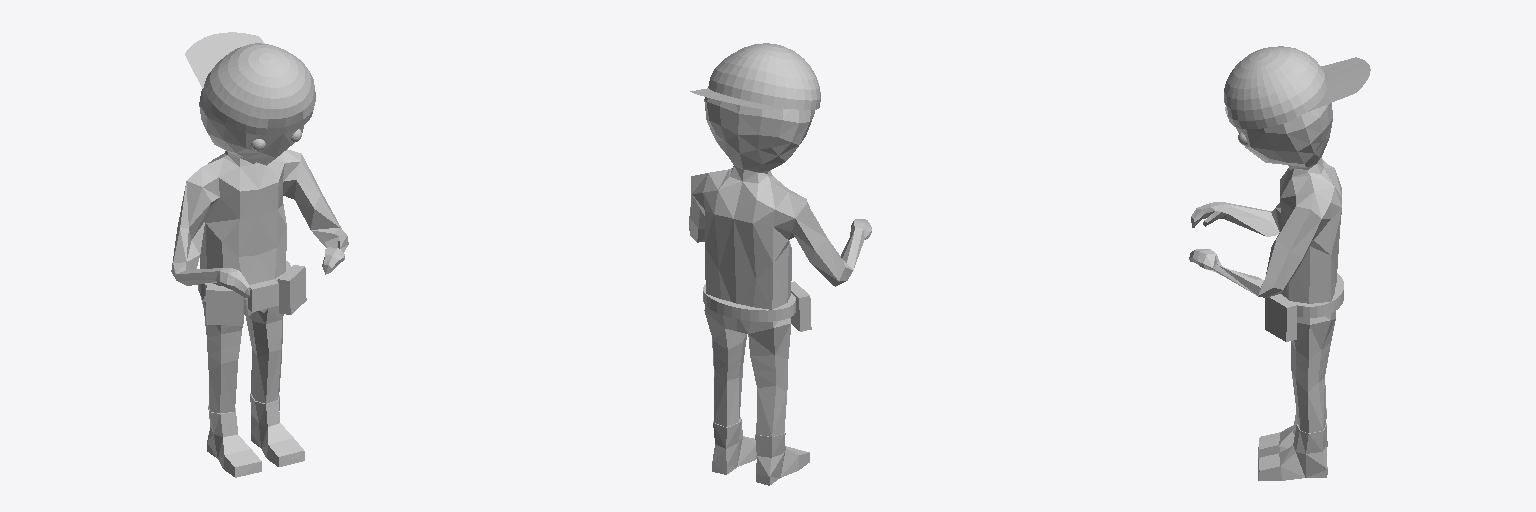
Rendered from Main_Character_Computer_18.obj.
3 renders of one model, left to right at view 1: azimuth 30°, elevation 25°; view 2: azimuth 150°, elevation 25°; view 3: azimuth 270°, elevation 25°, orthographic.
Visible parts, largest first — view 1: Main_Character_Test.003_Main_Character_Test.004; view 2: Main_Character_Test.003_Main_Character_Test.004; view 3: Main_Character_Test.003_Main_Character_Test.004.
Boxes of the visible parts, box(x1,y1,x2,y2) form: Main_Character_Test.003_Main_Character_Test.004: box(171, 32, 348, 477); Main_Character_Test.003_Main_Character_Test.004: box(689, 43, 871, 485); Main_Character_Test.003_Main_Character_Test.004: box(1189, 46, 1370, 480).
Bounding box in the file's own units: 1.65 × 3.93 × 1.57.